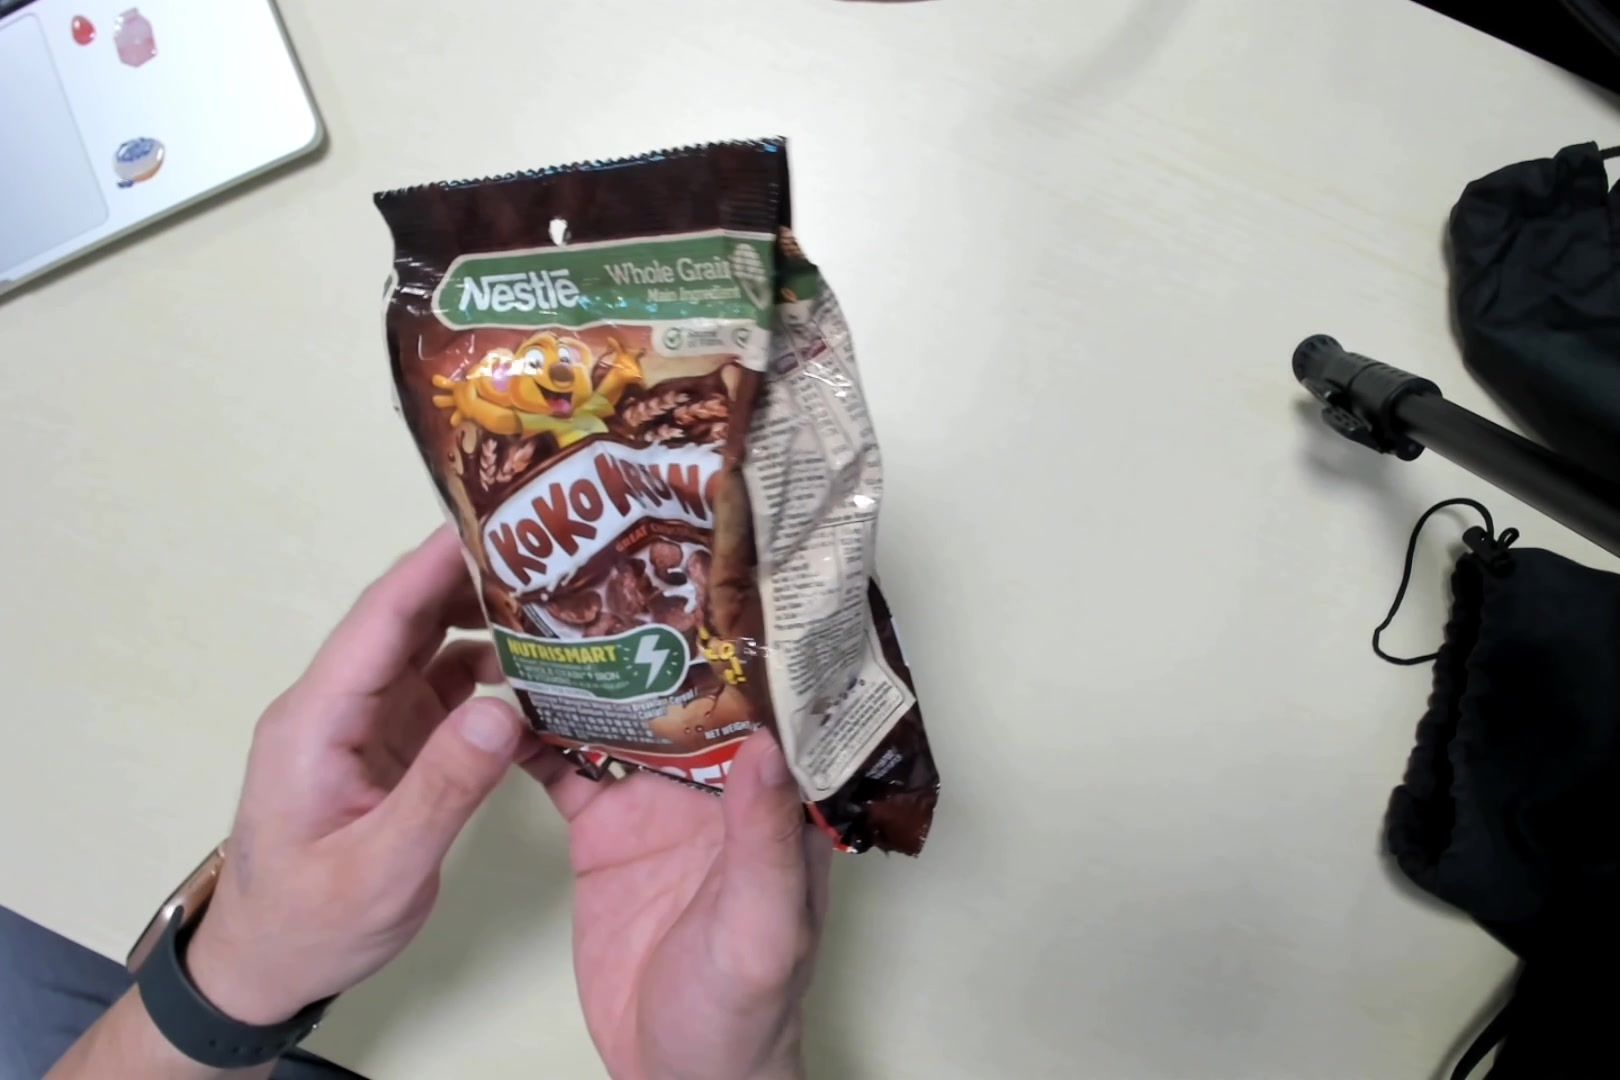BreakfastCereals_0-99g_Halal_NonHealthy: (381, 168, 935, 837)
